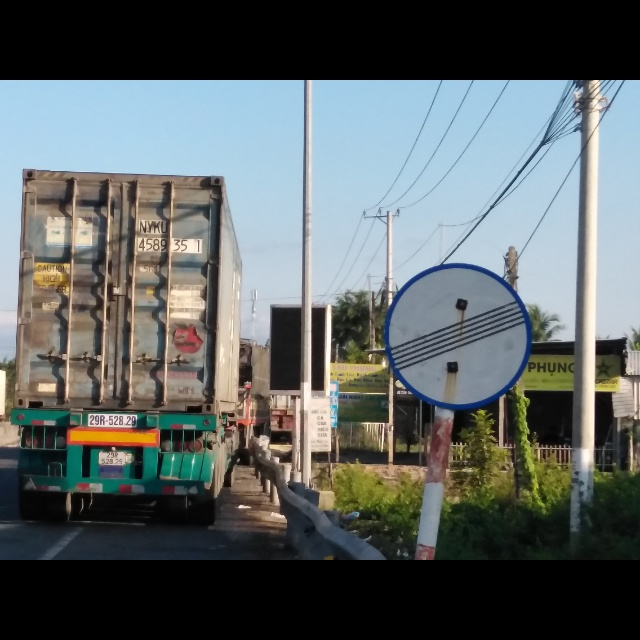Hết tất cả các lệnh cấm: (381, 263, 531, 413)
